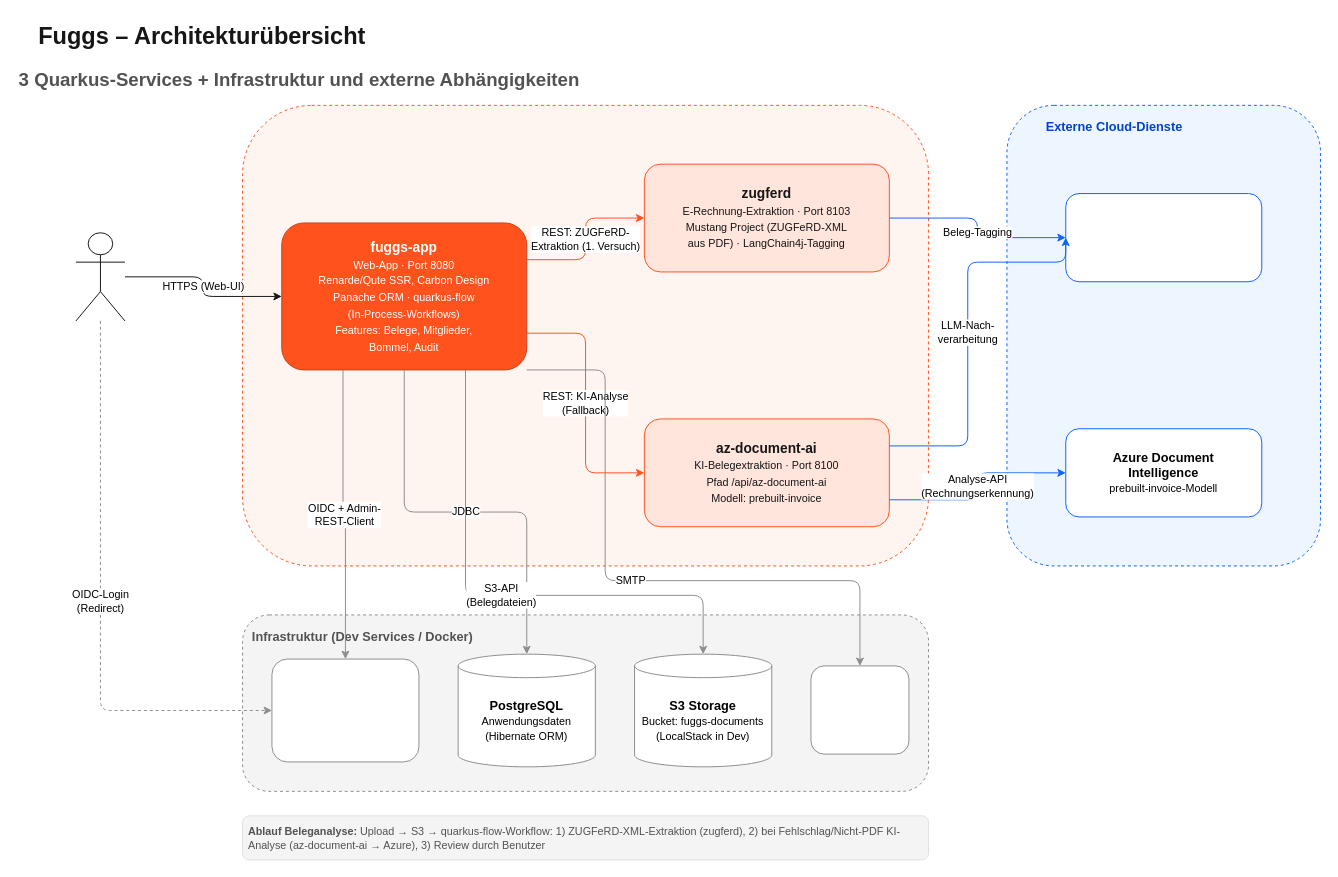
Image size: 1338x877. Some labels were removed from this diagram. Here are the shapes that lost their labels. From the top down, the box of each, then its label:
(1065, 193, 1262, 282): OpenAI API gpt-4o-mini via LangChain4j
(75, 232, 125, 321): Benutzer (Browser)
(242, 104, 929, 566): Fuggs Services (Quarkus, Java 21)
(271, 658, 419, 762): Keycloak OIDC · Realm "fuggs" Rollen: super_admin, admin, member
(810, 665, 909, 754): SMTP-Server E-Mail-Versand (Quarkus Mailer)
